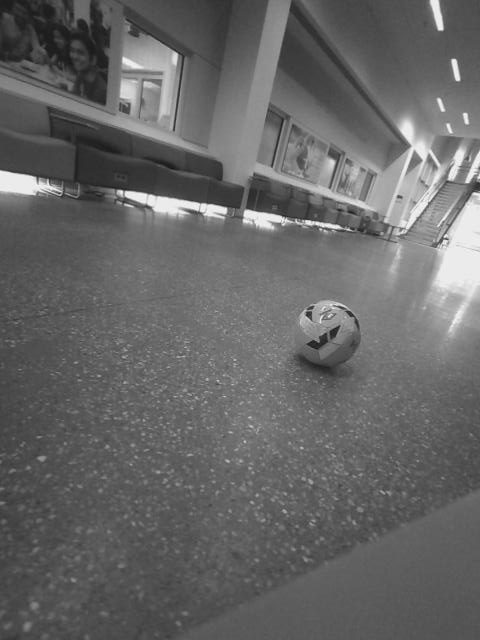ball: (190, 151, 244, 201)
